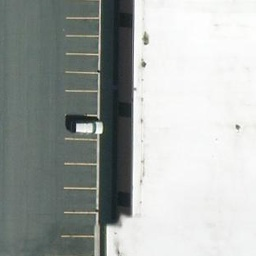car: (70, 117, 105, 137)
